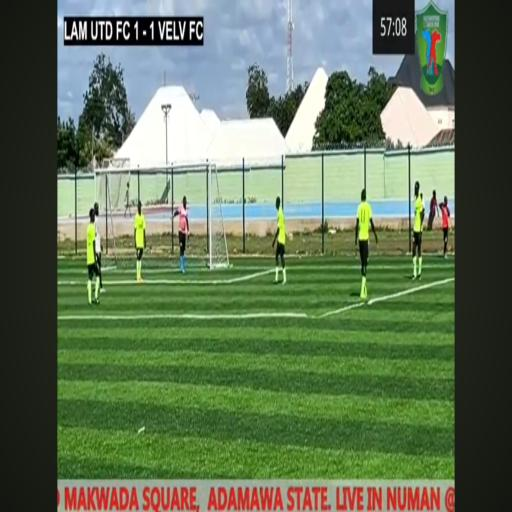keeper2: (172, 189, 191, 276)
team1: (94, 195, 108, 294)
team2: (269, 186, 291, 292), (409, 176, 426, 284), (131, 194, 150, 288), (358, 180, 371, 306), (84, 210, 100, 304)
